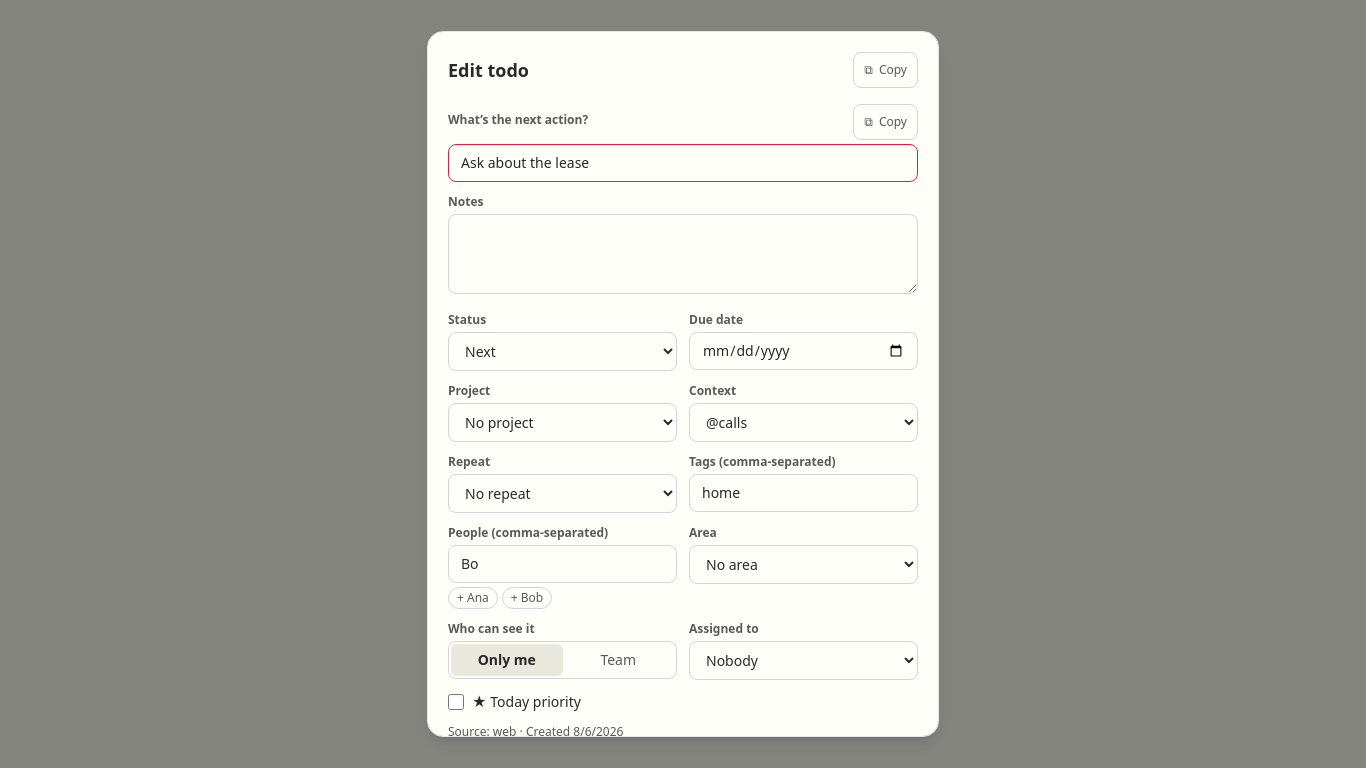
Test case: the people field in the edit sheet › shows who is on the todo and offers only the people who are not
Expected: the field with id "tgtd-people" holds "Bo", [448,545,677,583]
Click the button "+ Ana". click: (473, 598)
box: [448,587,498,609]
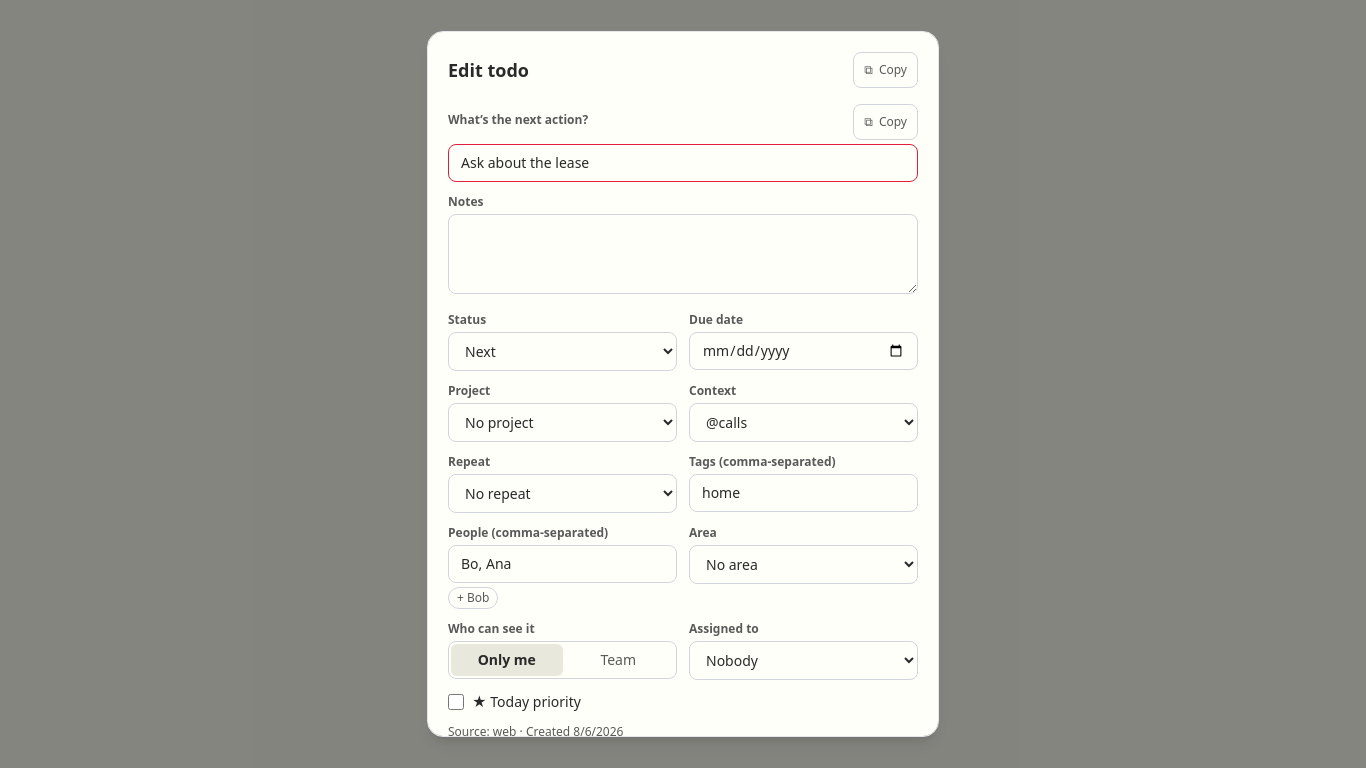
Expected: the field with id "tgtd-people" holds "Bo, Ana", [448,545,677,583]
